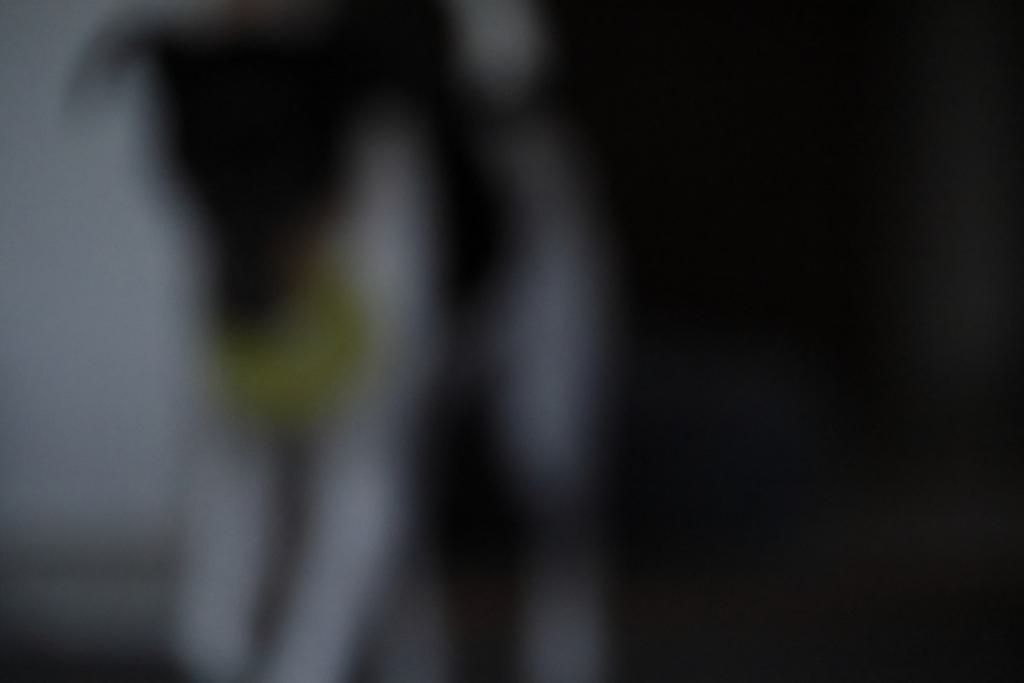Dog: (42, 0, 627, 683)
